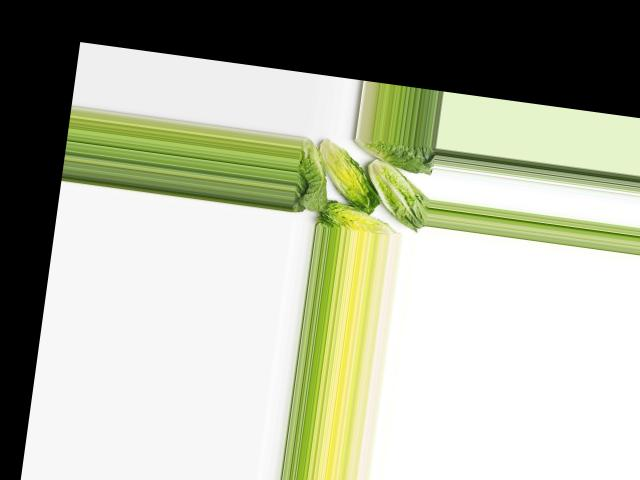lettuce: (291, 139, 337, 217)
